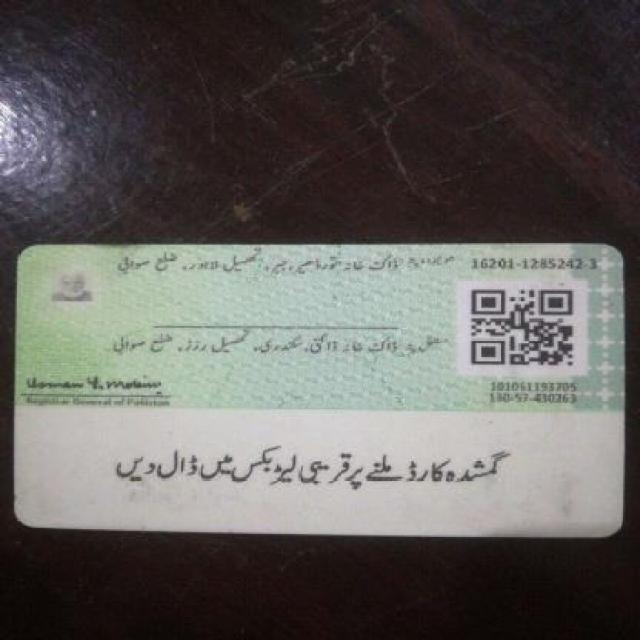Back: (7, 235, 636, 543)
